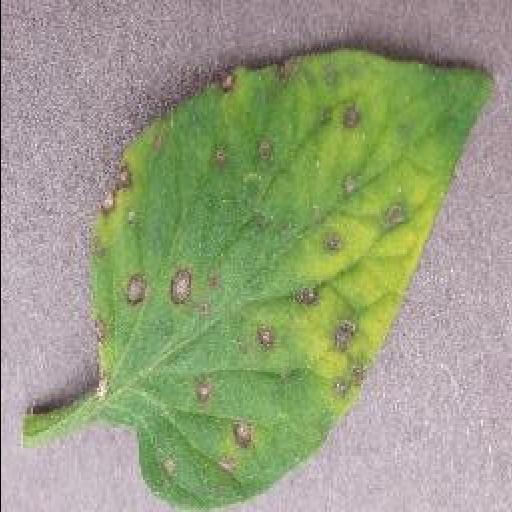disease_tomato: (86, 46, 496, 512)
